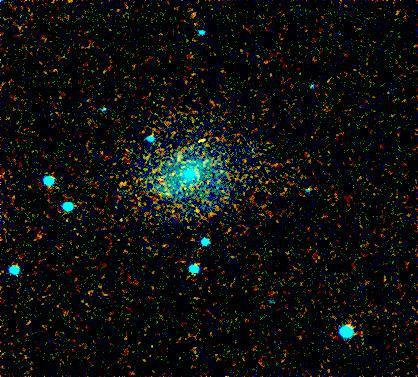star: (186, 124, 216, 154)
